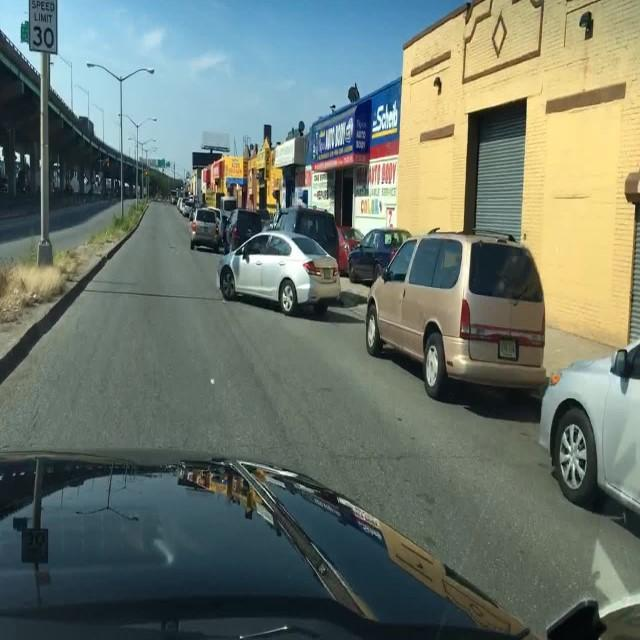normal: (361, 233, 547, 403), (539, 338, 640, 523), (216, 231, 342, 315), (270, 207, 358, 275), (346, 226, 414, 283), (217, 207, 271, 253), (188, 207, 229, 250)
